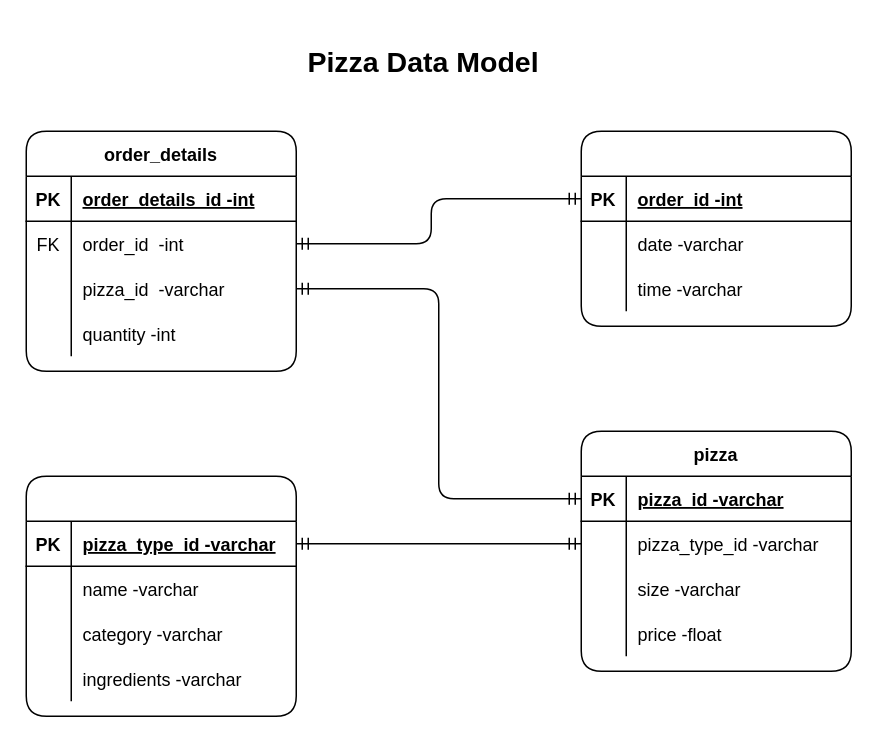
Some shapes in this 878 by 743 pixel diagram are drawn without their labels. The box of each missing label's shape, as (x1, y1, x2, y2) in pixels:
pizza_types: (25, 475, 296, 716)
Table: (580, 130, 851, 326)
